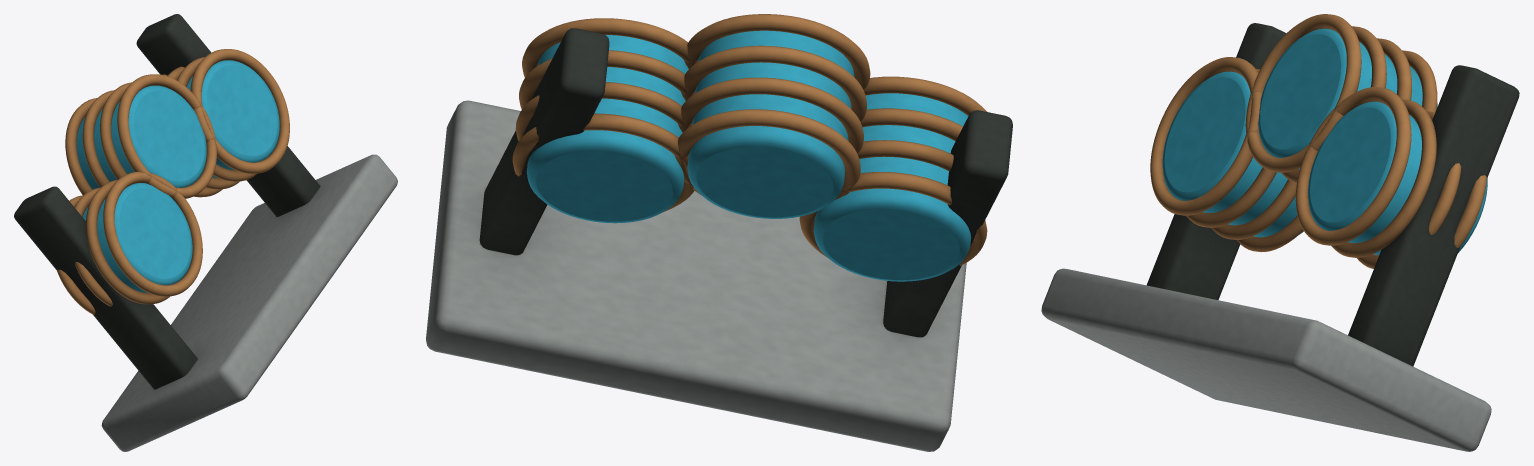
3 renders of one model, left to right at view 1: azimuth 30°, elevation 25°; view 2: azimuth 150°, elevation 25°; view 3: azimuth 270°, elevation 25°, orthographic. The views are drawn at different scales.
Parts seen in each view (by area): view 1: Bolted mechanical base; view 2: Bolted mechanical base; view 3: Bolted mechanical base.
Part boxes in pixels (<box>): Bolted mechanical base: <box>14,14,397,451</box>; Bolted mechanical base: <box>426,14,1012,451</box>; Bolted mechanical base: <box>1041,14,1519,451</box>.
Size of the model in its own units: 1.38 by 1.12 by 1.14.
1 material, 1 textured.
